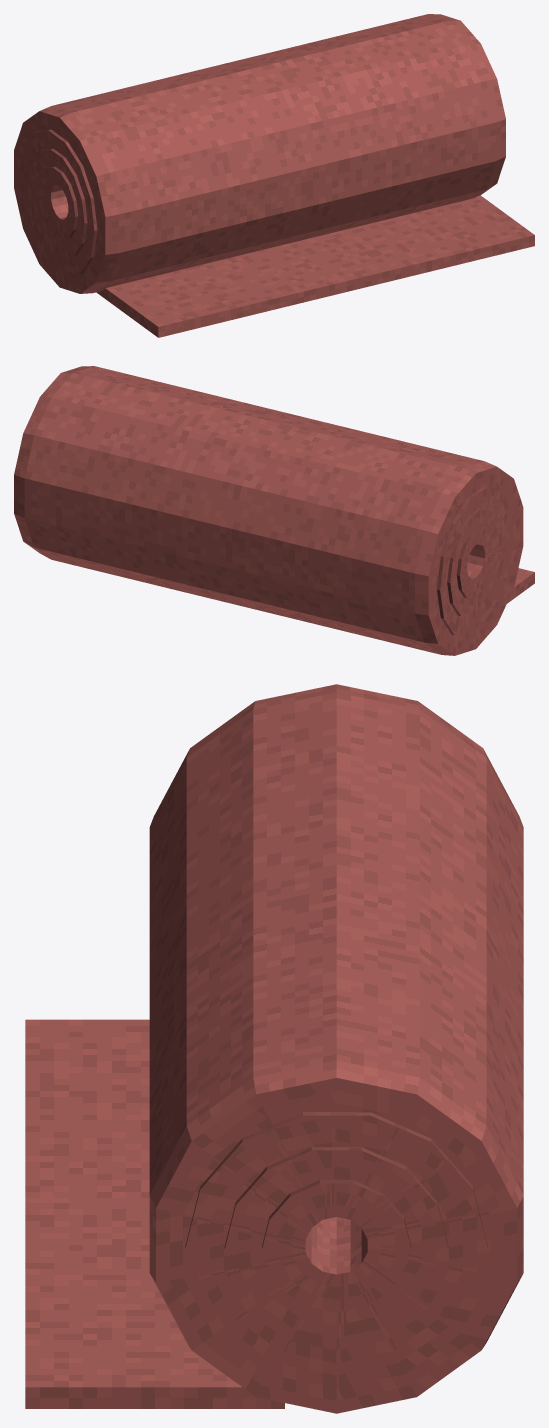
File: r_carpet.glb
The picture shows the model from 3 angles, top to bottom: view 1: azimuth 30°, elevation 25°; view 2: azimuth 150°, elevation 25°; view 3: azimuth 270°, elevation 25°; orthographic projection. The views are drawn at different scales.
Parts seen in each view (by area): view 1: block_rolled carpet, block_rolled carpet flap, block_coiled pile edge (×2); view 2: block_rolled carpet, block_coiled pile edge (×2), block_rolled carpet flap; view 3: block_rolled carpet, block_rolled carpet flap, block_coiled pile edge (×2).
Boxes of the visible parts, x1,y1,x2,y2 form: block_rolled carpet: (14, 14, 505, 293); block_rolled carpet flap: (96, 195, 534, 337); block_coiled pile edge (×2): (34, 129, 97, 273); block_rolled carpet: (14, 366, 523, 655); block_coiled pile edge (×2): (437, 485, 502, 635); block_rolled carpet flap: (507, 568, 534, 603); block_rolled carpet: (149, 684, 523, 1413); block_rolled carpet flap: (25, 1019, 284, 1408); block_coiled pile edge (×2): (185, 1112, 487, 1248).
Bounding box in the file's own units: 0.3739 × 0.1523 × 0.1979.
Materials: 1 (1 with a texture image).
